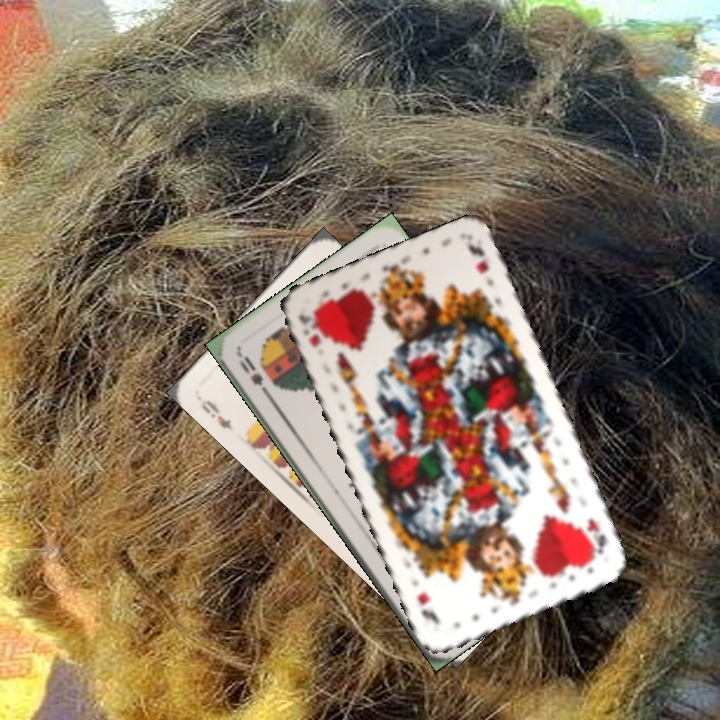E9: (197, 396, 236, 434)
HK: (577, 514, 610, 562), (294, 307, 328, 349)
SO: (234, 350, 274, 402)
